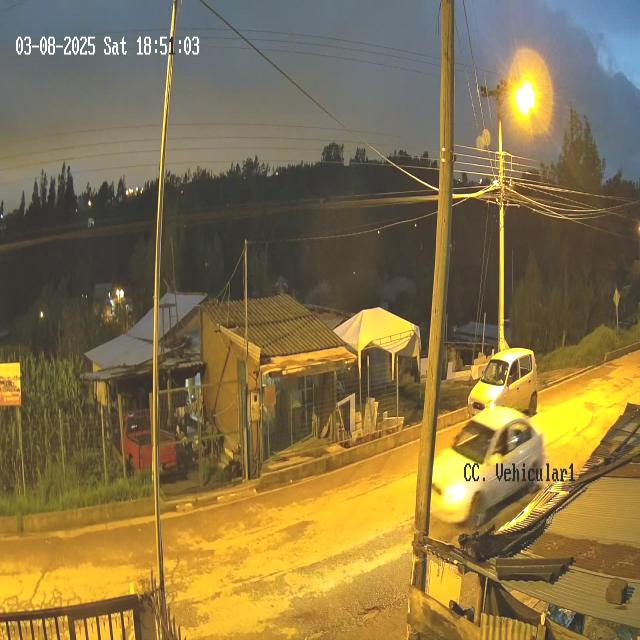SED: (424, 412, 541, 527)
